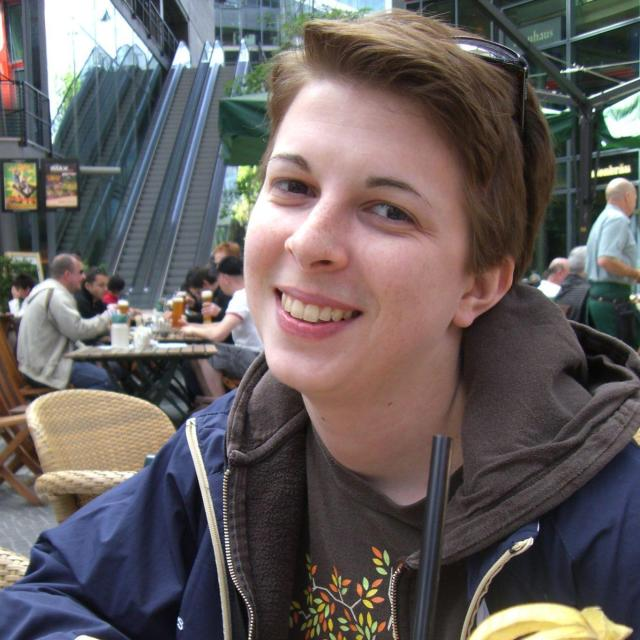no-glass: (270, 171, 421, 225)
